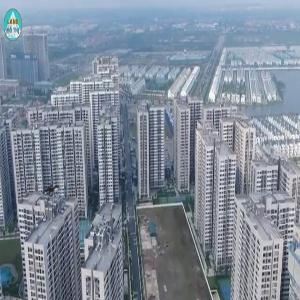drone: (19, 162, 80, 223)
